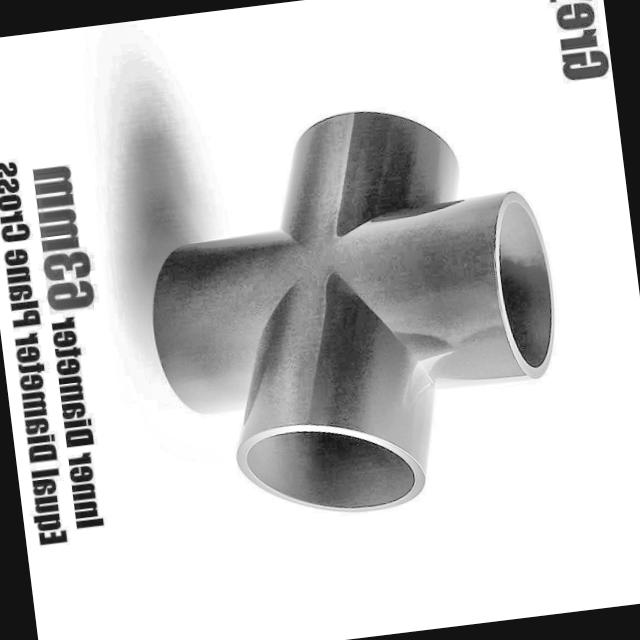EQUALCROSS: (149, 110, 552, 514)
